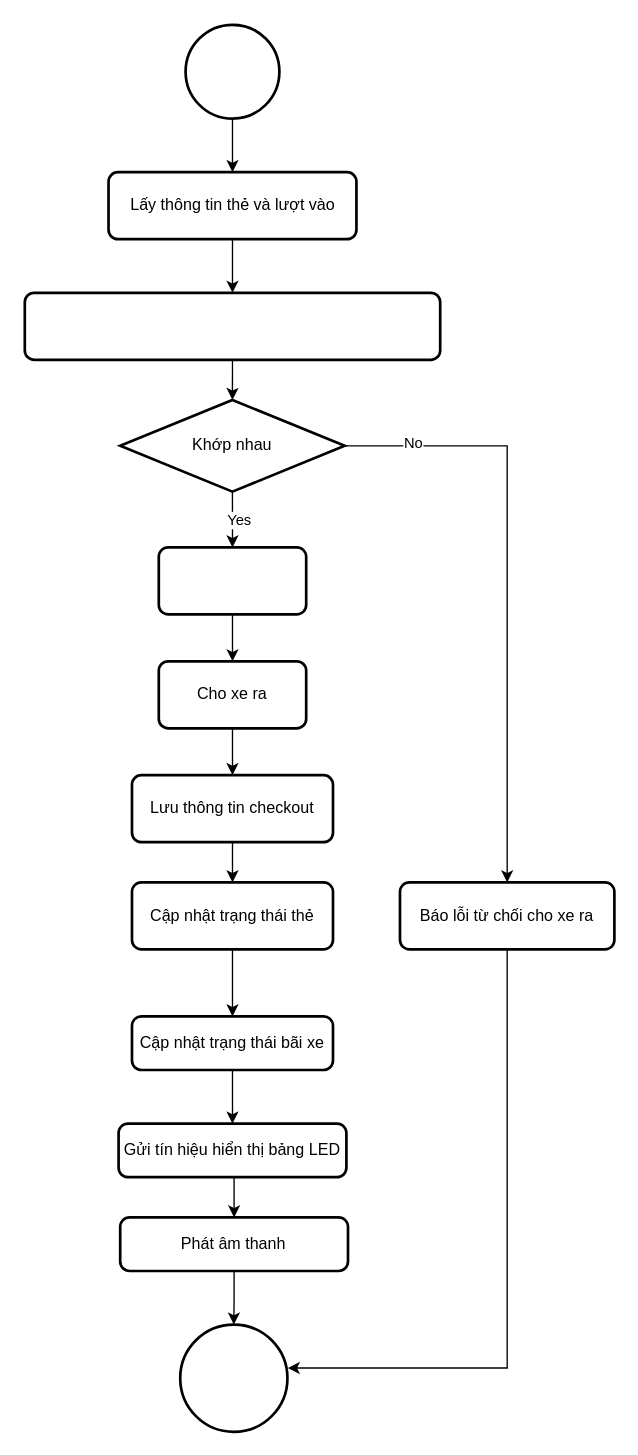
This 638x1455 diagram has some shape labels left out. Each missing label, with the box of its shape:
End: (178, 1323, 288, 1432)
Hiển thị thông tin lượt vào và lượt ra để so sánh: (23, 291, 441, 360)
Quẹt thẻ: (184, 23, 280, 119)
Thanh toán: (157, 545, 307, 615)
